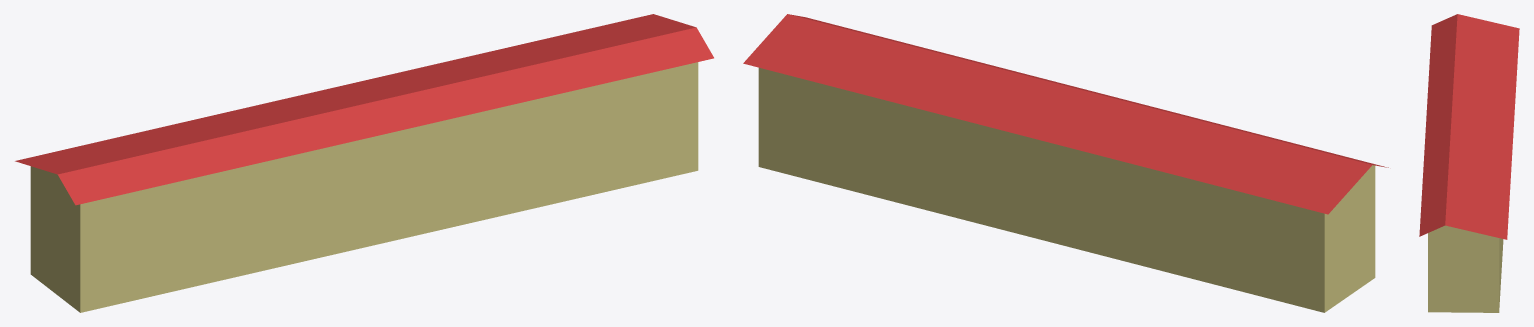
The picture shows the model from 3 angles, left to right: view 1: azimuth 30°, elevation 25°; view 2: azimuth 150°, elevation 25°; view 3: azimuth 270°, elevation 25°; orthographic projection. The views are drawn at different scales.
Bounding box in the file's own units: 45.73 × 9.11 × 9.08.
